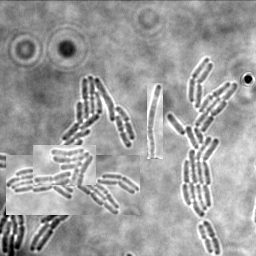Dividing: (147, 83, 163, 159), (204, 219, 222, 255), (199, 223, 215, 253)
Microcolony: (167, 57, 238, 216), (6, 155, 140, 215), (59, 75, 136, 154), (33, 145, 96, 185), (30, 215, 72, 251), (1, 200, 26, 255)
